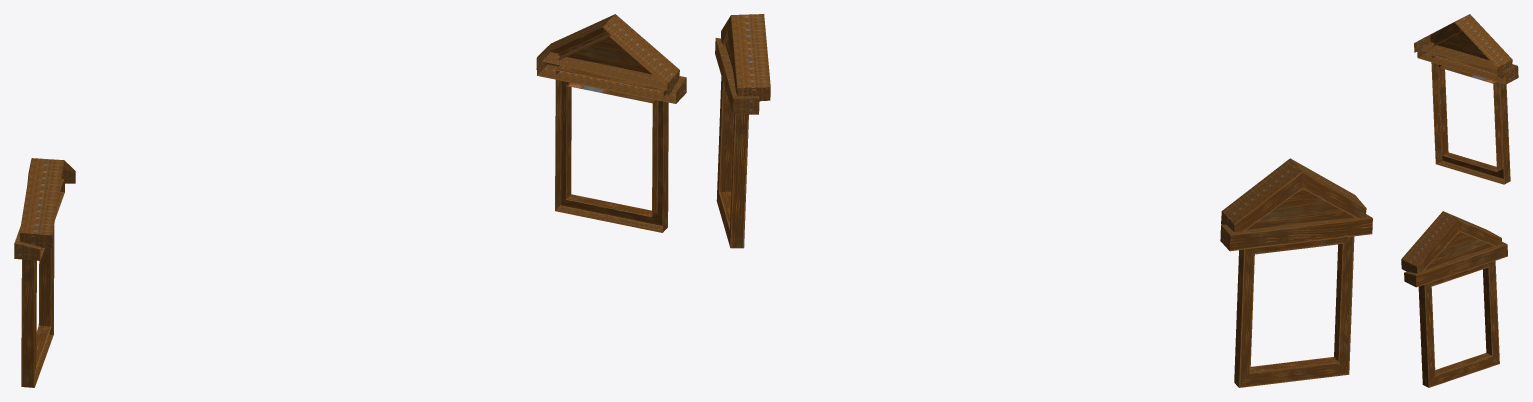
3 views of the same model, side by side, from view 1: azimuth 30°, elevation 25°; view 2: azimuth 150°, elevation 25°; view 3: azimuth 270°, elevation 25° (orthographic). The views are drawn at different scales.
Parts seen in each view (by area): view 1: Cube.2031; view 2: Cube.2031; view 3: Cube.2031.
Part boxes in pixels (x1,y1,x2,y2): Cube.2031: (14, 14, 686, 387); Cube.2031: (715, 14, 1372, 387); Cube.2031: (1401, 14, 1518, 387).
Bounding box in the file's own units: 1116 × 350 × 226.
Materials: 1 (1 with a texture image).
